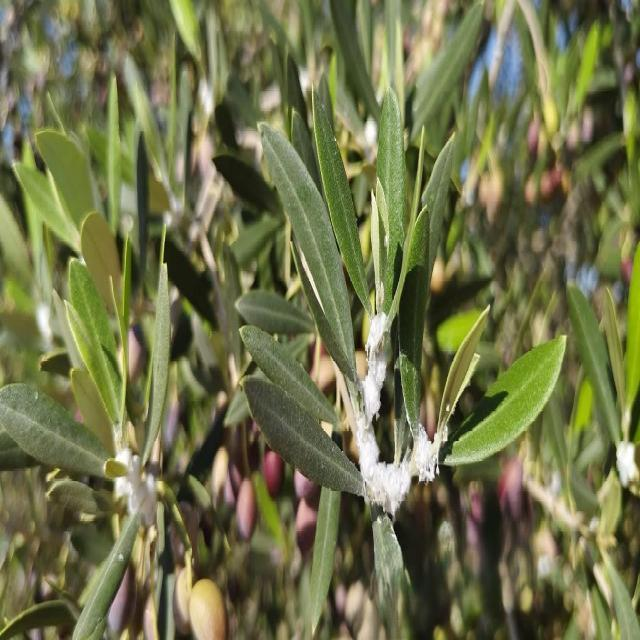Psyllid: (356, 313, 413, 500), (410, 418, 448, 483), (120, 456, 156, 524)
